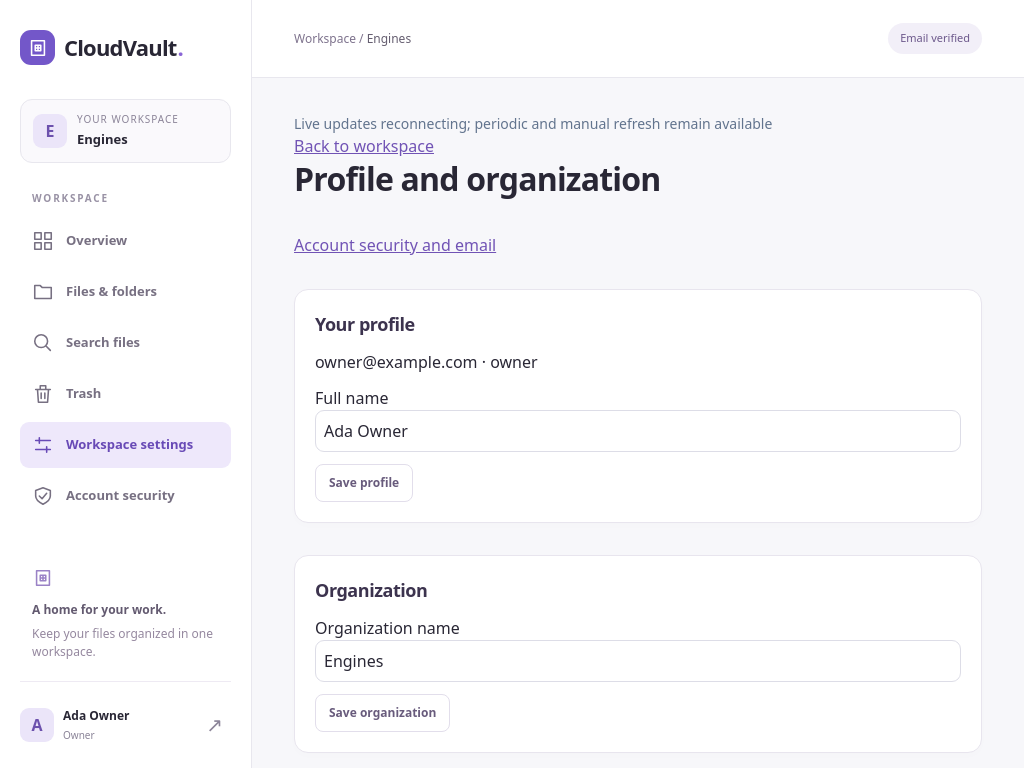
Test case: Organization and profile flows › keeps an API authorization failure visible
This screenshot has width=1024, height=768.
Expected: the field labelled "Full name" is shown, 315,410 -> 961,452
Click the button "Save profile": (364, 483) 315,464 -> 413,502
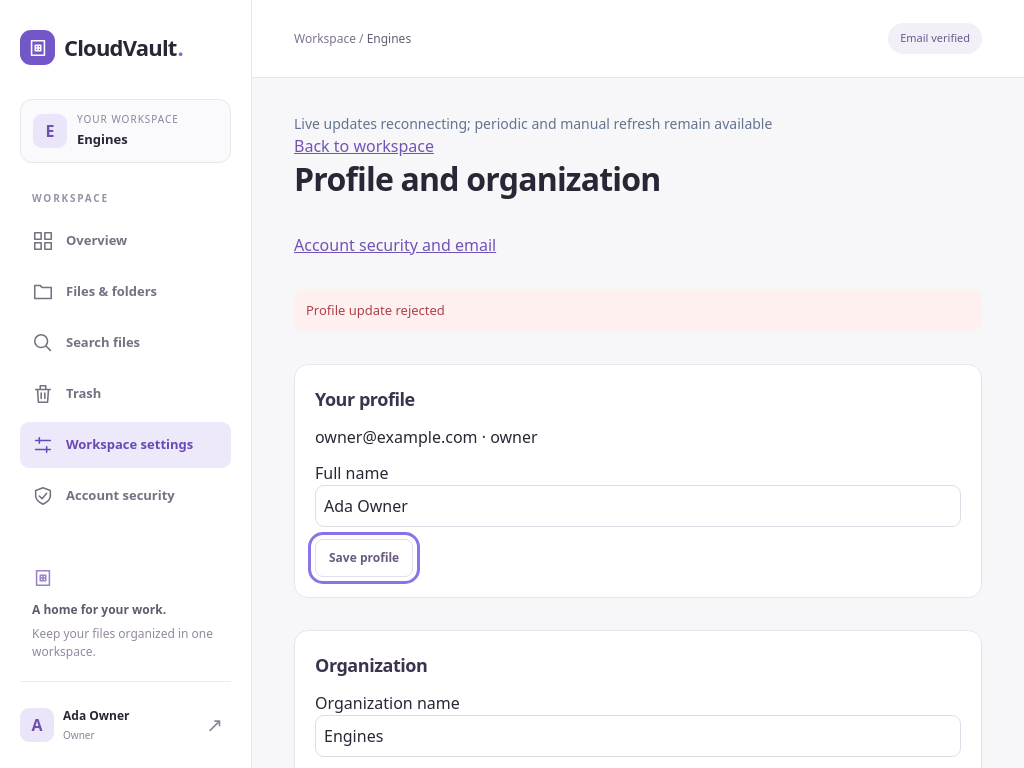
Expected: the message reads "Profile update rejected", 306,301 -> 445,319
